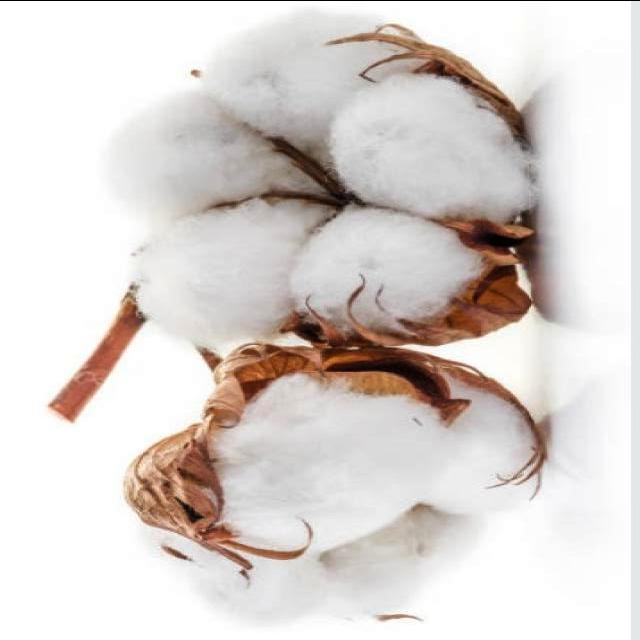Matured Cotton Boll: (101, 24, 516, 344), (133, 340, 536, 610)
